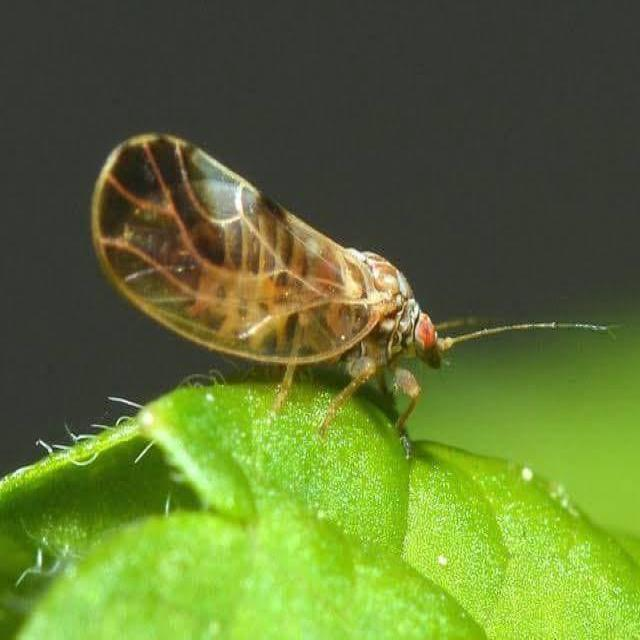Psyllid: (91, 134, 581, 429)
